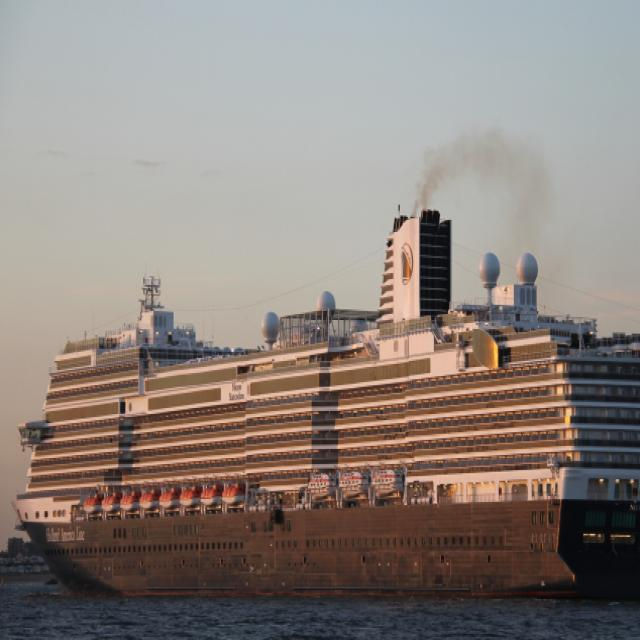cruises: (8, 204, 640, 609)
